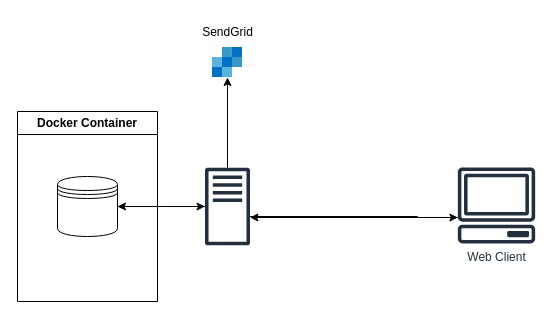
The diagram is 553 pixels wide and 319 high, and some of its shapes have lost their labels. The centre of each missing label's shape, as x and y in pixels:
"API" goes at (227,206).
"MySQL" goes at (87,206).
